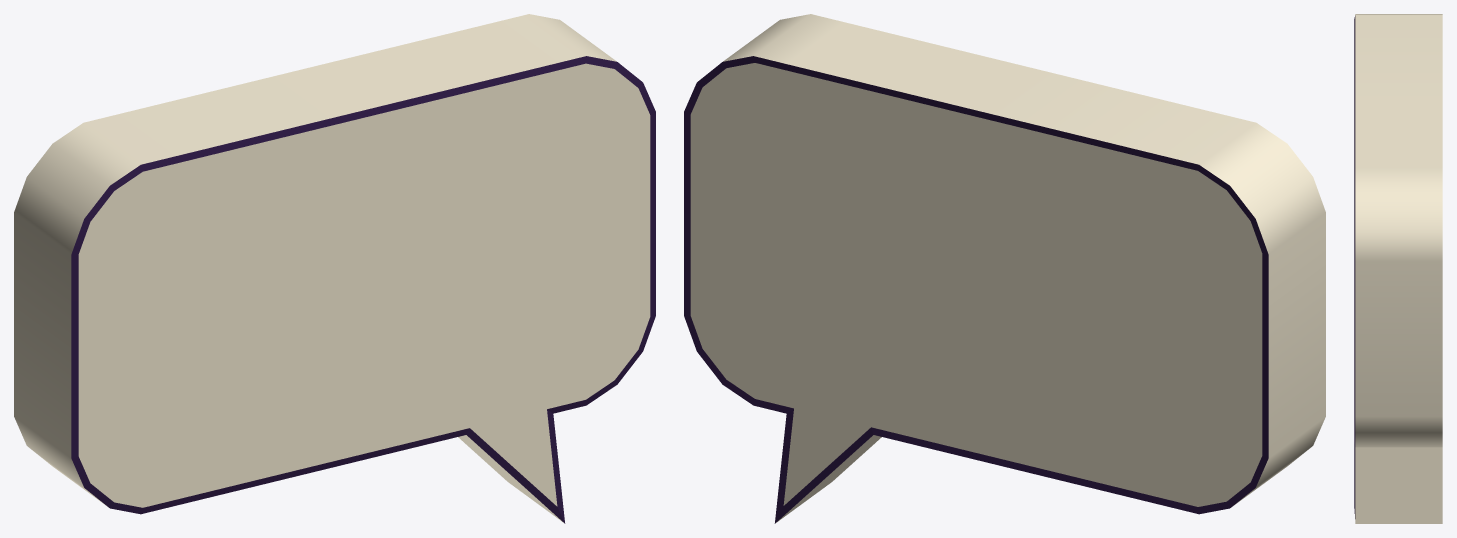
Rendered from tekstwolk.fbx.
3 renders of one model, left to right at view 1: azimuth 30°, elevation 25°; view 2: azimuth 150°, elevation 25°; view 3: azimuth 270°, elevation 25°, orthographic. The views are drawn at different scales.
Visible parts, largest first — view 1: textbox; view 2: textbox; view 3: textbox.
Boxes of the visible parts, x1,y1,x2,y2 form: textbox: (14, 14, 655, 523); textbox: (684, 14, 1325, 523); textbox: (1354, 14, 1442, 523).
Size of the model in its own units: 1.75 by 1.32 by 0.3016.
1 material, 1 textured.
